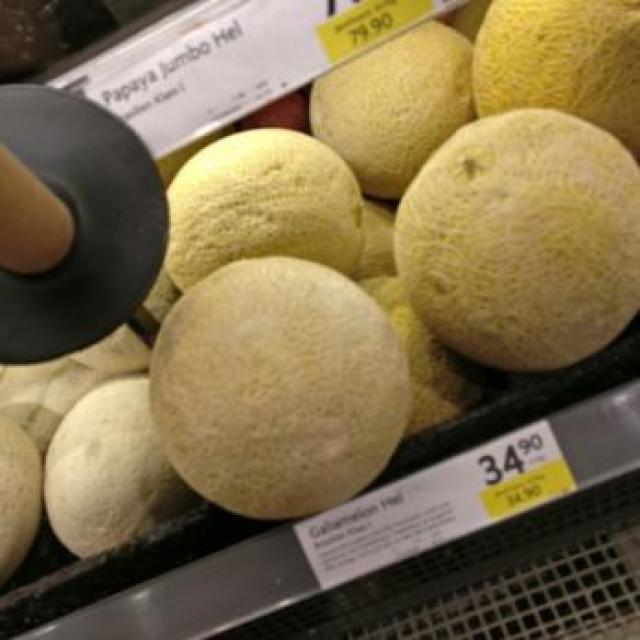Cantaloupe: (136, 250, 419, 541), (388, 112, 638, 390), (169, 125, 370, 307)
